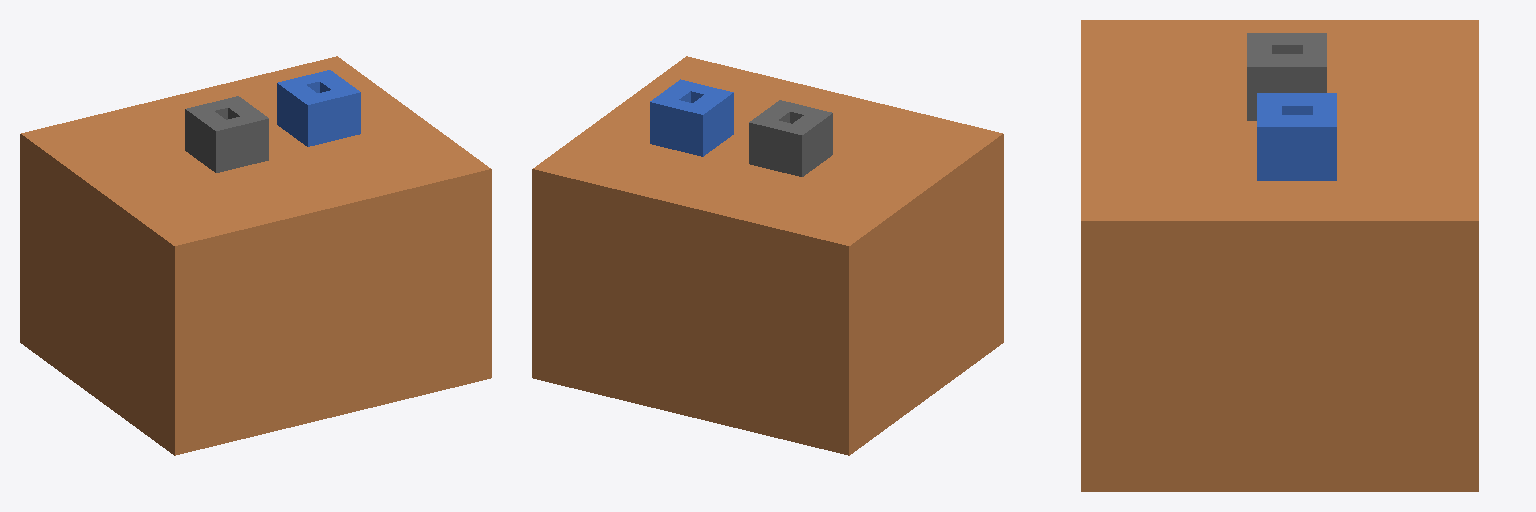
The robot description file, URDF, robot "peg_in_hole_fixtured_scene_0028_peg0010_tol02":
<?xml version="1.0"?>
<robot name="peg_in_hole_fixtured_scene_0028_peg0010_tol02">
  <material name="wood"><color rgba="0.82 0.56 0.35 1.0"/></material>
  <material name="start_fix"><color rgba="0.30 0.50 0.85 1.0"/></material>
  <material name="goal_fix"><color rgba="0.4706 0.4706 0.4706 1.0"/></material>
  <link name="box">
    <visual>
      <origin xyz="0.000000 0.000000 0.000000" rpy="0 0 0"/>
      <geometry><box size="0.475000 0.400000 0.300000"/></geometry>
      <material name="wood"/>
    </visual>
    <collision>
      <origin xyz="0.000000 0.000000 0.000000" rpy="0 0 0"/>
      <geometry><box size="0.475000 0.400000 0.300000"/></geometry>
    </collision>
    <visual>
      <origin xyz="0.104283 0.017338 0.155000" rpy="0 0 0"/>
      <geometry><box size="0.080000 0.080000 0.010000"/></geometry>
      <material name="start_fix"/>
    </visual>
    <collision>
      <origin xyz="0.104283 0.017338 0.155000" rpy="0 0 0"/>
      <geometry><box size="0.080000 0.080000 0.010000"/></geometry>
    </collision>
    <visual>
      <origin xyz="0.129533 0.017338 0.185000" rpy="0 0 0"/>
      <geometry><box size="0.029500 0.080000 0.050000"/></geometry>
      <material name="start_fix"/>
    </visual>
    <collision>
      <origin xyz="0.129533 0.017338 0.185000" rpy="0 0 0"/>
      <geometry><box size="0.029500 0.080000 0.050000"/></geometry>
    </collision>
    <visual>
      <origin xyz="0.079033 0.017338 0.185000" rpy="0 0 0"/>
      <geometry><box size="0.029500 0.080000 0.050000"/></geometry>
      <material name="start_fix"/>
    </visual>
    <collision>
      <origin xyz="0.079033 0.017338 0.185000" rpy="0 0 0"/>
      <geometry><box size="0.029500 0.080000 0.050000"/></geometry>
    </collision>
    <visual>
      <origin xyz="0.104283 0.045088 0.185000" rpy="0 0 0"/>
      <geometry><box size="0.021000 0.024500 0.050000"/></geometry>
      <material name="start_fix"/>
    </visual>
    <collision>
      <origin xyz="0.104283 0.045088 0.185000" rpy="0 0 0"/>
      <geometry><box size="0.021000 0.024500 0.050000"/></geometry>
    </collision>
    <visual>
      <origin xyz="0.104283 -0.010412 0.185000" rpy="0 0 0"/>
      <geometry><box size="0.021000 0.024500 0.050000"/></geometry>
      <material name="start_fix"/>
    </visual>
    <collision>
      <origin xyz="0.104283 -0.010412 0.185000" rpy="0 0 0"/>
      <geometry><box size="0.021000 0.024500 0.050000"/></geometry>
    </collision>
    <visual>
      <origin xyz="-0.038840 0.007097 0.155000" rpy="0 0 0"/>
      <geometry><box size="0.080000 0.080000 0.010000"/></geometry>
      <material name="goal_fix"/>
    </visual>
    <collision>
      <origin xyz="-0.038840 0.007097 0.155000" rpy="0 0 0"/>
      <geometry><box size="0.080000 0.080000 0.010000"/></geometry>
    </collision>
    <visual>
      <origin xyz="-0.013536 0.007097 0.185000" rpy="0 0 0"/>
      <geometry><box size="0.029393 0.080000 0.050000"/></geometry>
      <material name="goal_fix"/>
    </visual>
    <collision>
      <origin xyz="-0.013536 0.007097 0.185000" rpy="0 0 0"/>
      <geometry><box size="0.029393 0.080000 0.050000"/></geometry>
    </collision>
    <visual>
      <origin xyz="-0.064143 0.007097 0.185000" rpy="0 0 0"/>
      <geometry><box size="0.029393 0.080000 0.050000"/></geometry>
      <material name="goal_fix"/>
    </visual>
    <collision>
      <origin xyz="-0.064143 0.007097 0.185000" rpy="0 0 0"/>
      <geometry><box size="0.029393 0.080000 0.050000"/></geometry>
    </collision>
    <visual>
      <origin xyz="-0.038840 0.034900 0.185000" rpy="0 0 0"/>
      <geometry><box size="0.021214 0.024393 0.050000"/></geometry>
      <material name="goal_fix"/>
    </visual>
    <collision>
      <origin xyz="-0.038840 0.034900 0.185000" rpy="0 0 0"/>
      <geometry><box size="0.021214 0.024393 0.050000"/></geometry>
    </collision>
    <visual>
      <origin xyz="-0.038840 -0.020707 0.185000" rpy="0 0 0"/>
      <geometry><box size="0.021214 0.024393 0.050000"/></geometry>
      <material name="goal_fix"/>
    </visual>
    <collision>
      <origin xyz="-0.038840 -0.020707 0.185000" rpy="0 0 0"/>
      <geometry><box size="0.021214 0.024393 0.050000"/></geometry>
    </collision>
    <inertial>
      <mass value="500"/>
      <friction value="1.0"/>
      <inertia ixx="1000.0" ixy="0.0" ixz="0.0" iyy="1000.0" iyz="0.0" izz="1000.0"/>
    </inertial>
  </link>
</robot>

--- Render facts (derived) ---
The picture shows the robot from 3 angles, left to right: view 1: azimuth 30°, elevation 25°; view 2: azimuth 150°, elevation 25°; view 3: azimuth 270°, elevation 25°; orthographic projection.
Robot: peg_in_hole_fixtured_scene_0028_peg0010_tol02 — 1 links, 0 joints (none); root link box; default pose: all joints at 0.
Visible links, largest first — view 1: box; view 2: box; view 3: box.
Link boxes in pixels (x1,y1,x2,y2): box: (20,56,491,455); box: (532,56,1003,455); box: (1081,20,1478,491).
Bounding box of the posed robot: 0.475 × 0.4 × 0.36 m (x, y, z).
Geometry: primitives only (box / cylinder / sphere), no mesh files.
